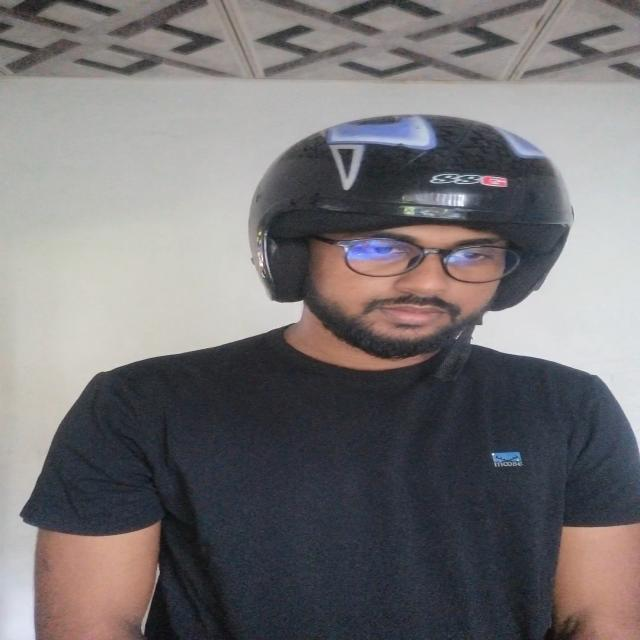Helmet_Wearer: (236, 105, 576, 403)
Person: (23, 119, 640, 640)
